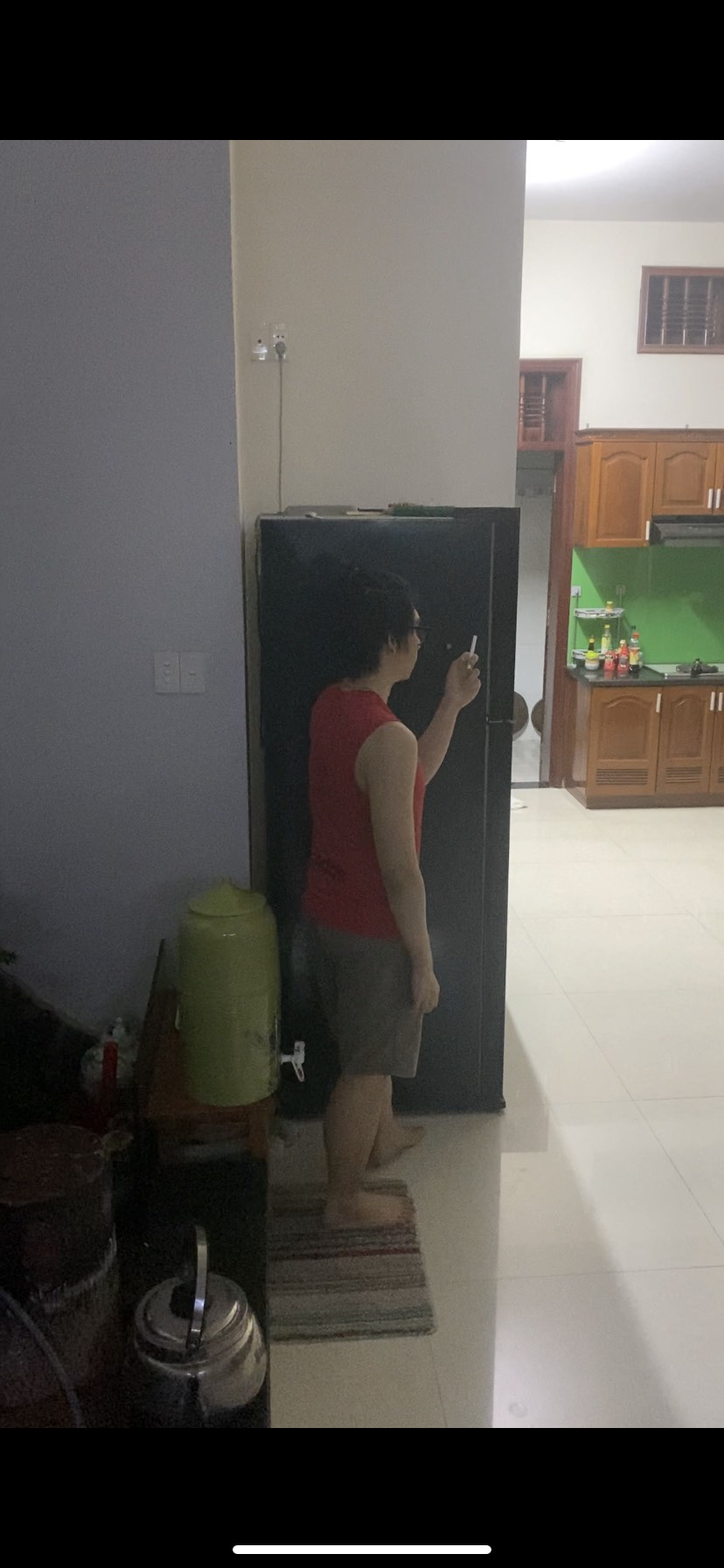cigarette: (467, 629, 481, 656)
person: (296, 567, 488, 1211)
